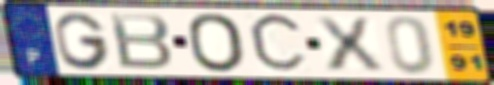0: (382, 13, 438, 77)
B: (106, 11, 176, 72)
C: (245, 10, 310, 77)
G: (51, 10, 113, 71)
O: (184, 11, 250, 74)
X: (311, 15, 388, 73)
